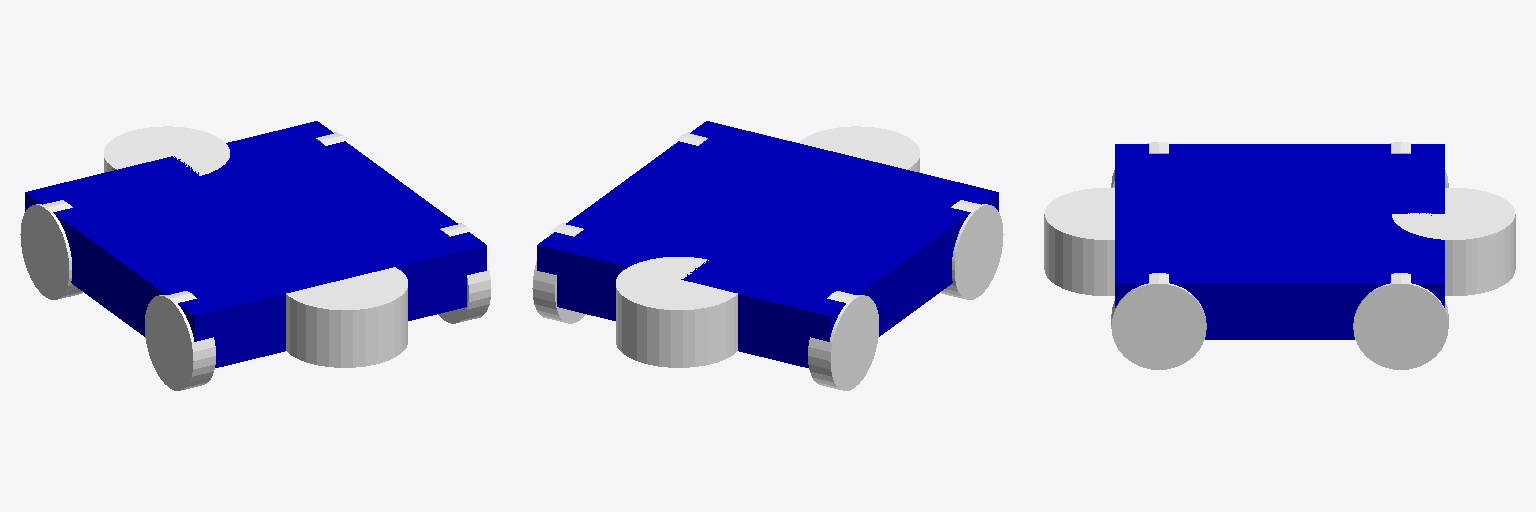
The robot description file, URDF, robot "rc_baseplate":
<?xml version="1.0"?>
<robot name="rc_baseplate">
  <material name="blue">
    <color rgba="0 0 0.8 1" />
  </material>

  <material name="white">
    <color rgba="1 1 1 1" />
  </material>

<link name="base_footprint">
  <visual>
    <origin xyz="0 0 0" rpy="0 0 0" />
    <geometry>
      <box size="0.05 0.05 0.001" />
    </geometry>
  </visual>
</link>

<joint name="base_joint" type="fixed">
  <origin xyz="0 0 0" rpy="0 0 0" />
  <parent link="base_footprint"/>
  <child link="base_link" />
</joint>

  <!-- 底盘本体 -->
  <link name="base_link">
    <visual>
      <geometry>
        <box size="0.53 0.532 0.1" />
      </geometry>
      <material name="blue" />
    </visual>
    <collision>
      <geometry>
        <box size="0.53 0.532 0.1" />
      </geometry>
    </collision>
    <inertial>
      <mass value="20" />
      <inertia ixx="4.00538" ixy="0.0" ixz="0.0" iyy="4.00538" iyz="0.0" izz="0.51076" />
    </inertial>
  </link>

  <!-- 轮子 -->
  <link name="wheel_lf">
    <visual>
      <geometry>
        <cylinder length="0.0409" radius="0.077" />
      </geometry>
      <material name="white" />
    </visual>
    <collision>
      <geometry>
        <cylinder length="0.0409" radius="0.077" />
      </geometry>
      <material name="white" />
    </collision>
  </link>
  <link name="wheel_rf">
    <visual>
      <geometry>
        <cylinder length="0.0409" radius="0.077" />
      </geometry>
      <material name="white" />
    </visual>
    <collision>
      <geometry>
        <cylinder length="0.0409" radius="0.077" />
      </geometry>
      <material name="white" />
    </collision>
  </link>
  <link name="wheel_lb">
    <visual>
      <geometry>
        <cylinder length="0.0409" radius="0.077" />
      </geometry>
      <material name="white" />
    </visual>
    <collision>
      <geometry>
        <cylinder length="0.0409" radius="0.077" />
      </geometry>
      <material name="white" />
    </collision>
  </link>
  <link name="wheel_rb">
    <visual>
      <geometry>
        <cylinder length="0.0409" radius="0.077" />
      </geometry>
      <material name="white" />
    </visual>
    <collision>
      <geometry>
        <cylinder length="0.0409" radius="0.077" />
      </geometry>
      <material name="white" />
    </collision>
  </link>

  <!-- 轮子与底盘链接的关节 -->
  <joint name="base_to_wheel_lf" type="fixed">
    <parent link="base_link" />
    <child link="wheel_lf" />
    <origin xyz="-0.25 0.195 -0.025" rpy="0 1.57075 0" />
    
  </joint>
  <joint name="base_to_wheel_rf" type="fixed">
    <parent link="base_link" />
    <child link="wheel_rf" />
    <origin xyz="0.25 0.195 -0.025" rpy="0 -1.57075 0" />
    
  </joint>
  <joint name="base_to_wheel_lb" type="fixed">
    <parent link="base_link" />
    <child link="wheel_lb" />
    <origin xyz="-0.25 -0.195 -0.025" rpy="0 1.57075 0" />
  </joint>
  <joint name="base_to_wheel_rb" type="fixed">
    <parent link="base_link" />
    <child link="wheel_rb" />
    <origin xyz="0.25 -0.195 -0.025" rpy="0 -1.57075 0" />
    
  </joint>


  <!-- 激光雷达1（左） -->
  <link name="laser1_link">
    <visual>
      <geometry>
        <cylinder length="0.1" radius="0.1" />
      </geometry>
      <material name="white" />
    </visual>
    <collision>
      <geometry>
        <cylinder length="0.1" radius="0.1" />
      </geometry>
    </collision>
  </link>
  <joint name="base_to_laser1" type="fixed">
    <origin xyz="0 0.279725 0" rpy="3.14159 0 1.5708" />
    <parent link="base_link" />
    <child link="laser1_link" />
  </joint>

  <!-- 激光雷达2（右） -->
  <link name="laser2_link">
    <visual>
      <geometry>
        <cylinder length="0.1" radius="0.1" />
      </geometry>
      <material name="white" />
    </visual>
    <collision>
      <geometry>
        <cylinder length="0.1" radius="0.1" />
      </geometry>
    </collision>
  </link>
  <joint name="base_to_laser2" type="fixed">
    <origin xyz="0 -0.279725 0" rpy="3.14159 0 0" />
    <parent link="base_link" />
    <child link="laser2_link" />
  </joint>

  <gazebo reference="laser1_link">
    <sensor type="ray" name="head_hokuyo_sensor">
      <pose>0 0 0.10 0 0 0</pose>
      <visualize>false</visualize>
      <update_rate>10</update_rate>
      <ray>
        <scan>
          <horizontal>
            <samples>1081</samples>
            <resolution>1</resolution>
            <min_angle>-3.14159265</min_angle>  <!-- -180° -->
            <max_angle>3.14159265</max_angle>   <!-- 180° -->
          </horizontal>
        </scan>
        <range>
          <min>0.03</min>
          <max>100.0</max>
          <resolution>0.01</resolution>
        </range>
        <noise>
          <type>gaussian</type>
          <mean>0.0</mean>
          <stddev>0.01</stddev>
        </noise>
      </ray>
      <plugin name="gazebo_ros_hokuyo_controller" filename="libgazebo_ros_laser.so">
        <topicName>LeftLidar/scan1</topicName>
        <frameName>laser1_link</frameName>
      </plugin>
    </sensor>
  </gazebo>

    <gazebo reference="laser2_link">
    <sensor type="ray" name="head_hokuyo_sensor">
      <pose>0 0 0.10 0 0 0</pose>
      <visualize>false</visualize>
      <update_rate>10</update_rate>
      <ray>
        <scan>
          <horizontal>
            <samples>1081</samples>
            <resolution>1</resolution>
            <min_angle>-3.14159265</min_angle>  <!-- -180° -->
            <max_angle>3.14159265</max_angle>   <!-- 180° -->
          </horizontal>
        </scan>
        <range>
          <min>0.03</min>
          <max>100.0</max>
          <resolution>0.01</resolution>
        </range>
        <noise>
          <type>gaussian</type>
          <mean>0.0</mean>
          <stddev>0.01</stddev>
        </noise>
      </ray>
      <plugin name="gazebo_ros_hokuyo_controller" filename="libgazebo_ros_laser.so">
        <topicName>RightLidar/scan2</topicName>
        <frameName>laser2_link</frameName>
      </plugin>
    </sensor>
  </gazebo>

  <gazebo>
    <plugin name="base_controller" filename="libgazebo_ros_planar_move.so">
    <commandTopic>cmd_vel</commandTopic>
    <cmdTimeout>-1.0</cmdTimeout>
    <robotBaseFrame>base_footprint</robotBaseFrame>
    </plugin>
</gazebo>
</robot>

--- What the picture shows (computed from the rendered views, not written in the file) ---
3 views of the same robot in one strip: view 1: azimuth 30°, elevation 25°; view 2: azimuth 150°, elevation 25°; view 3: azimuth 270°, elevation 25° (orthographic).
Robot: rc_baseplate — 8 links, 7 joints (7 fixed); root link base_footprint; default pose: every joint at zero.
Visible links, largest first — view 1: base_link, laser2_link, wheel_lb, laser1_link, wheel_lf, wheel_rb; view 2: base_link, laser1_link, wheel_lf, wheel_lb, laser2_link, wheel_rf; view 3: base_link, laser1_link, laser2_link, wheel_rf, wheel_rb.
Boxes of the visible links, x1,y1,x2,y2 form: base_link: (25, 121, 486, 367); laser2_link: (286, 267, 407, 367); wheel_lb: (145, 291, 215, 390); laser1_link: (104, 126, 229, 175); wheel_lf: (20, 200, 82, 299); wheel_rb: (438, 223, 491, 323); base_link: (537, 121, 998, 367); laser1_link: (616, 257, 737, 367); wheel_lf: (808, 291, 878, 390); wheel_lb: (941, 200, 1003, 299); laser2_link: (799, 126, 919, 172); wheel_rf: (532, 223, 585, 323); base_link: (1115, 144, 1444, 339); laser1_link: (1392, 188, 1515, 295); laser2_link: (1044, 188, 1114, 295); wheel_rf: (1353, 273, 1448, 369); wheel_rb: (1111, 273, 1206, 369).
Bounding box of the posed robot: 0.5409 × 0.7595 × 0.154 m (x, y, z).
Geometry: primitives only (box / cylinder / sphere), no mesh files.
